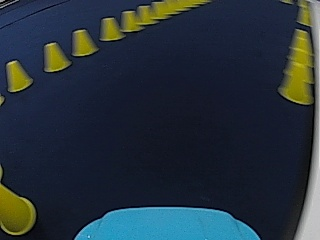cone: (278, 29, 314, 103), (1, 185, 35, 233), (42, 41, 71, 72), (5, 59, 32, 92), (70, 29, 98, 56), (99, 16, 122, 41), (120, 10, 138, 31), (135, 5, 151, 24)
